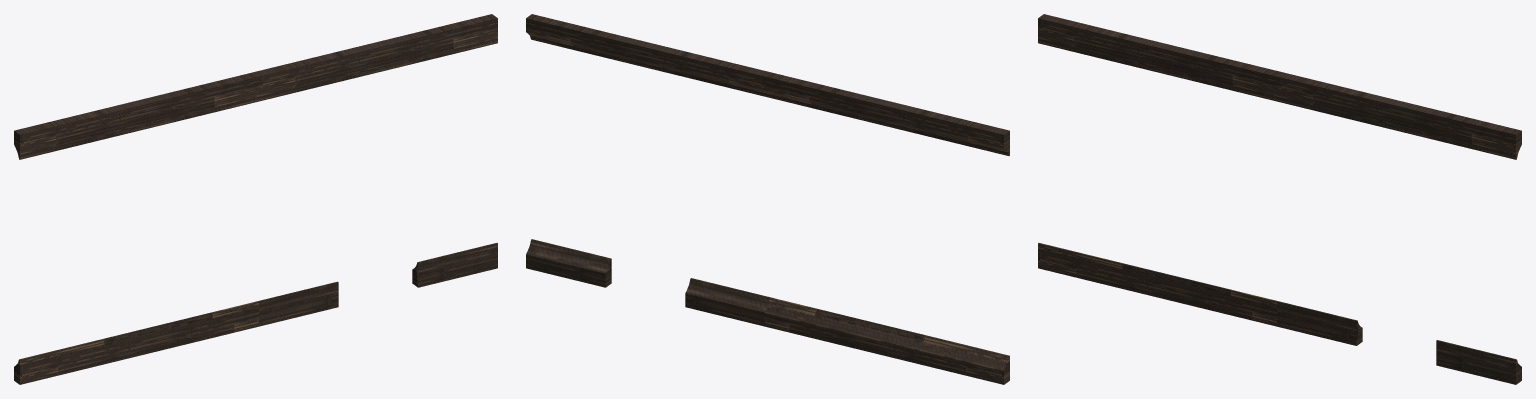
File: baseboards.glb
3 renders of one model, left to right at view 1: azimuth 30°, elevation 25°; view 2: azimuth 150°, elevation 25°; view 3: azimuth 330°, elevation 25°, orthographic.
Visible parts, largest first — view 1: Wall.003, Wall.007, Wall.004, Wall.022; view 2: Wall.004, Wall.003, Wall.007, Wall.022; view 3: Wall.007, Wall.003, Wall.004, Wall.022.
Part boxes in pixels (x1,y1,x2,y2): Wall.003: (14,72,258,159); Wall.007: (253,14,497,101); Wall.004: (14,301,258,384); Wall.022: (258,243,497,326); Wall.004: (765,297,1009,384); Wall.003: (765,72,1009,155); Wall.007: (526,14,770,97); Wall.022: (526,239,770,326); Wall.007: (1277,72,1521,159); Wall.003: (1038,14,1282,101); Wall.004: (1038,243,1277,326); Wall.022: (1277,301,1521,384).
Size of the model in its own units: 4 by 2 by 0.0843.
Materials: 1 (1 with a texture image).
